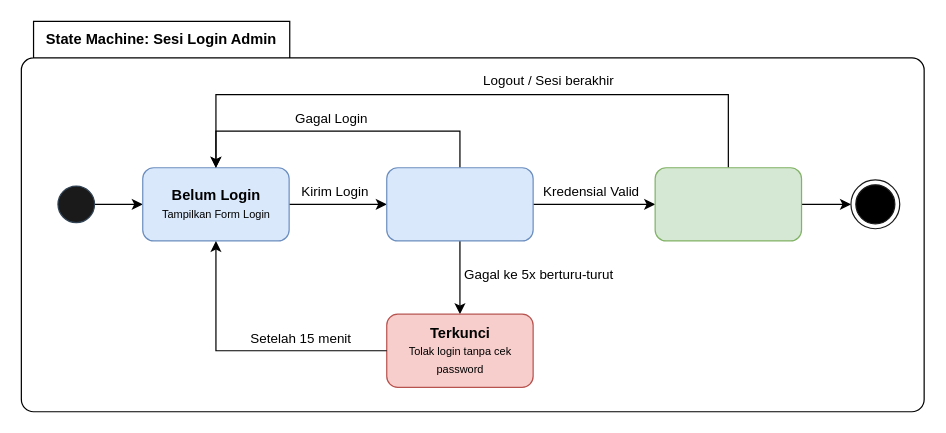
Image size: 946x433. Some labels were removed from this diagram. Each missing label, with the centre of its shape:
"Memverifikasi Check Account, Verify Credential" goes at point 459,204.
"Terautentikasi Akses sesuai (Admin/Super Admin)" goes at point 728,204.
